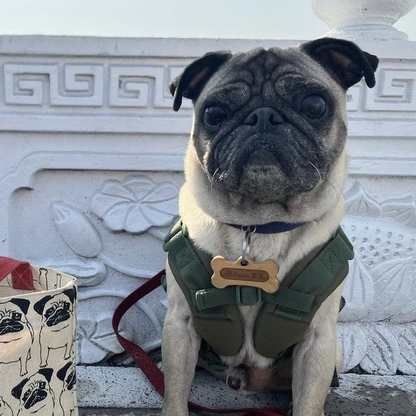Pug: (155, 32, 383, 416)
